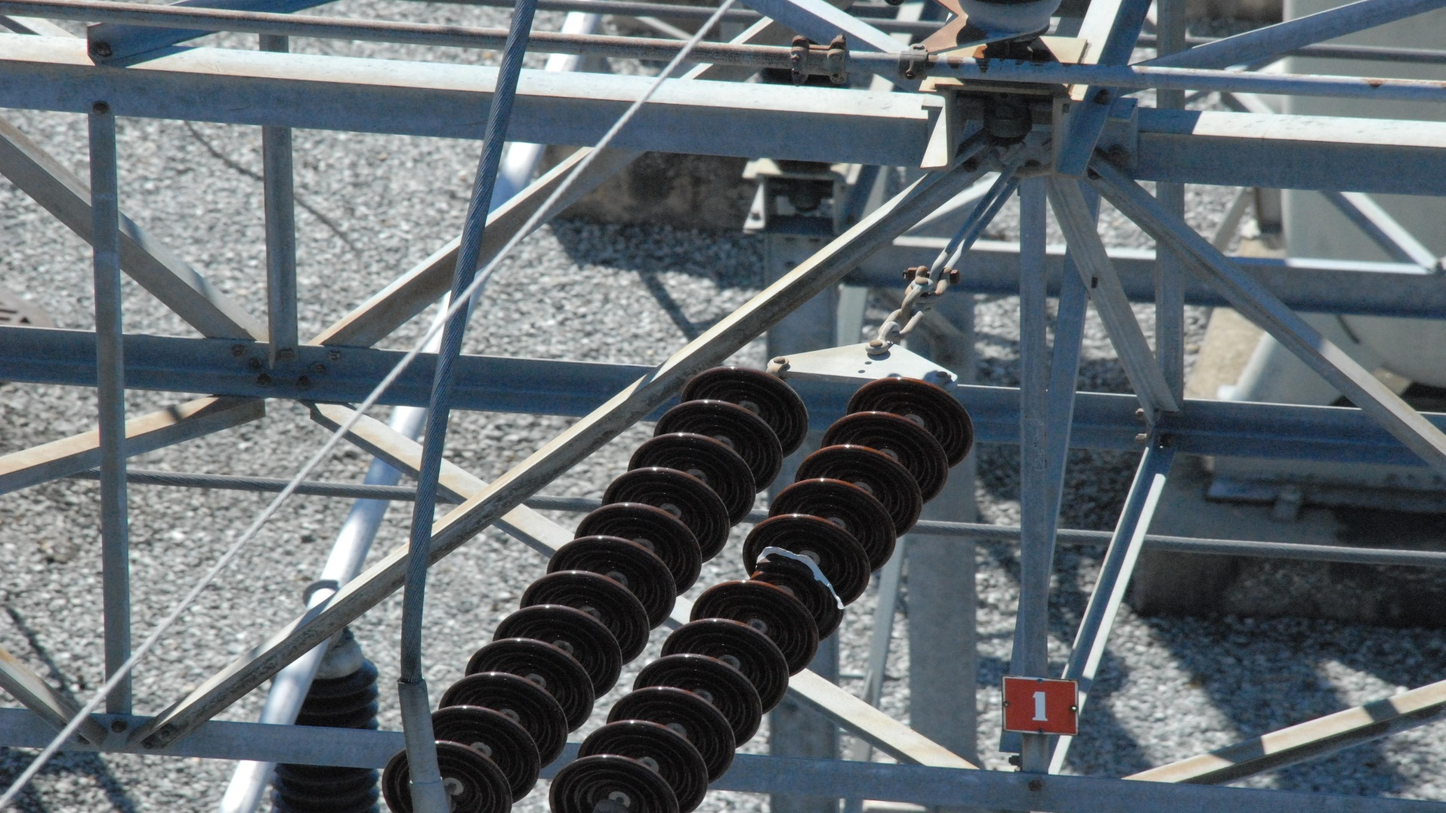insulator: (379, 362, 813, 813), (542, 373, 978, 813)
